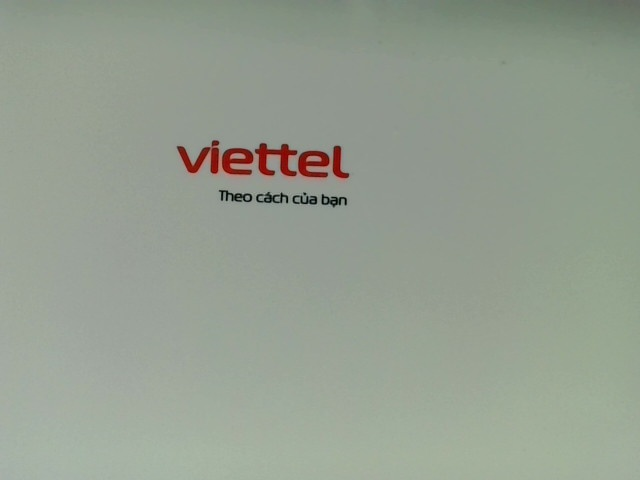AY_Viettel: (173, 136, 360, 208)
